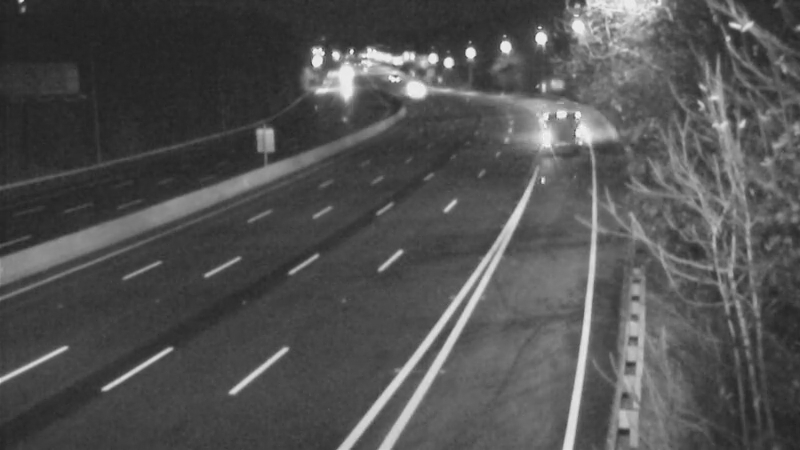vehicle: (391, 66, 441, 116), (531, 98, 581, 148), (320, 55, 370, 105)
